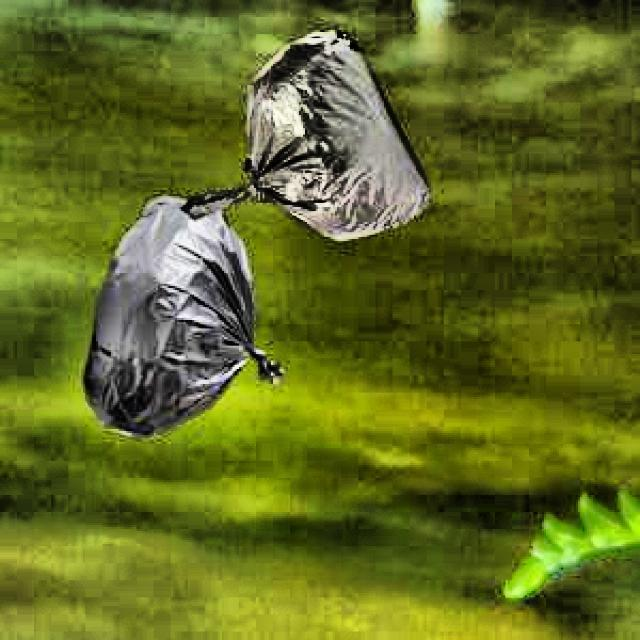Trashbag: (72, 194, 280, 437), (238, 25, 428, 248)
